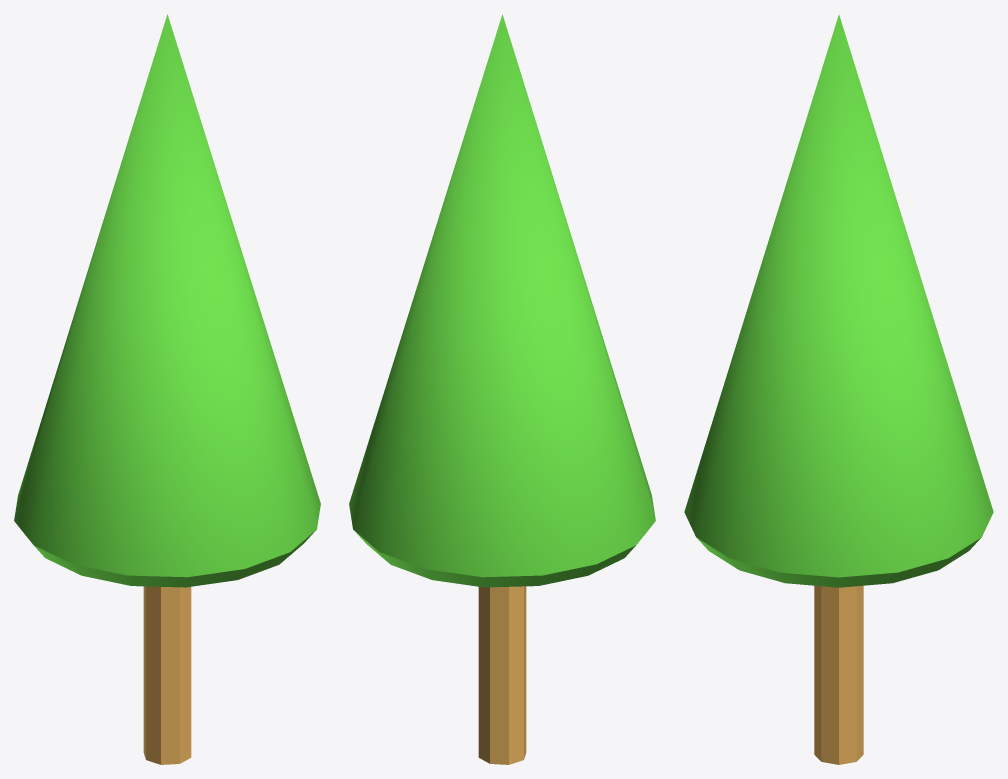
File: Prop_Tree_05.fbx
3 views of the same model, side by side, from view 1: azimuth 30°, elevation 25°; view 2: azimuth 150°, elevation 25°; view 3: azimuth 270°, elevation 25° (orthographic).
Parts seen in each view (by area): view 1: Prop_Tree_05; view 2: Prop_Tree_05; view 3: Prop_Tree_05.
Boxes of the visible parts, x1,y1,x2,y2 form: Prop_Tree_05: (14, 14, 320, 764); Prop_Tree_05: (349, 14, 655, 764); Prop_Tree_05: (684, 15, 993, 764).
Size of the model in its own units: 194 by 512 by 194.
